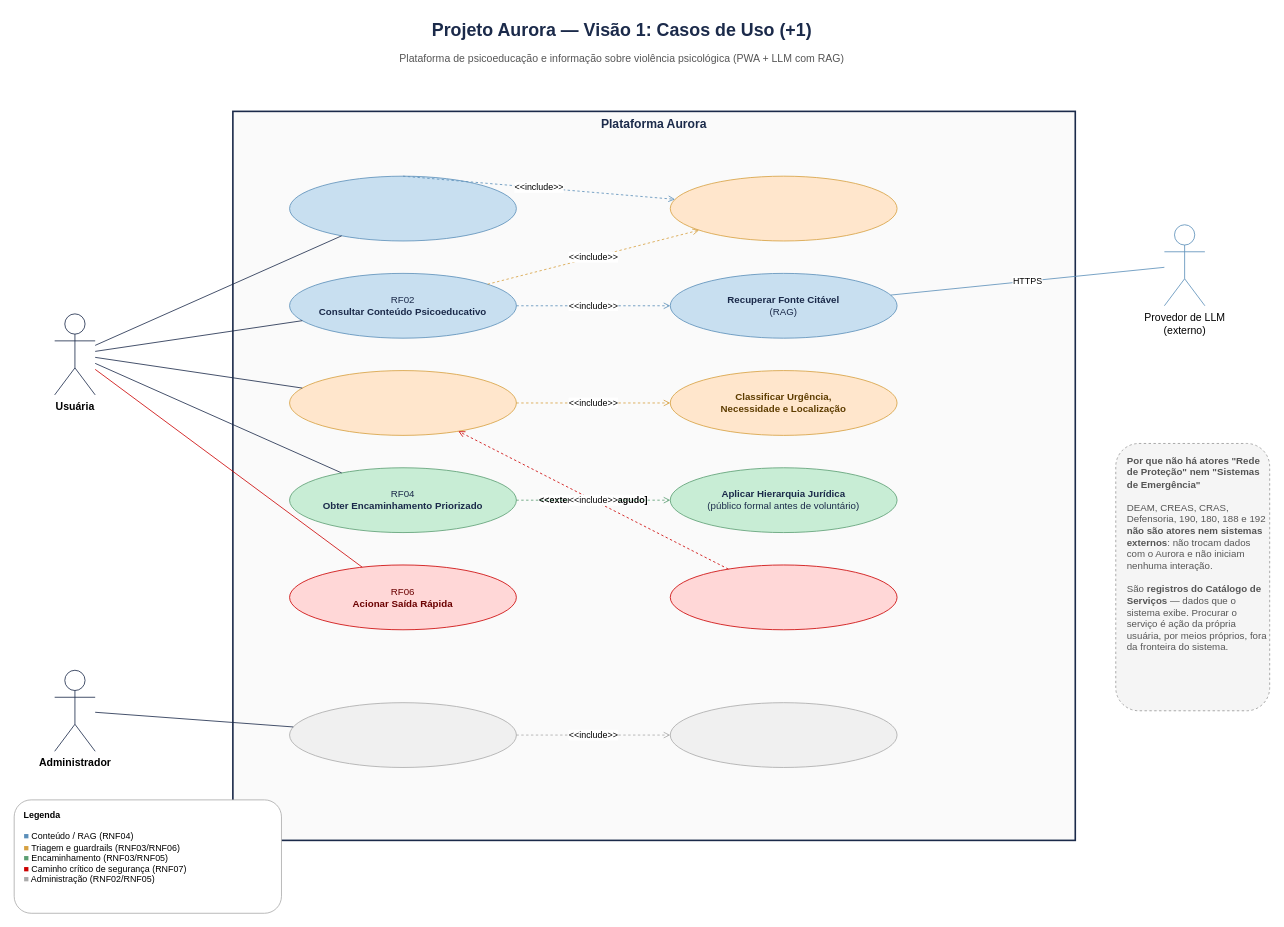
The diagram is 1284 pixels wide and 927 high, and some of its shapes have lost their labels. The centre of each missing label's shape, as x and y in pixels:
"Aplicar Guardrails de Escopo (RF10)" belongs at point 783,208.
"Exibir Sugestão Prioritária de Emergência (p95 ≤ 500 ms, sem LLM)" belongs at point 783,597.
"RF01 Relatar Situação de Violência" belongs at point 402,208.
"RF03 Realizar Triagem de Risco" belongs at point 402,402.
"RF05 Atualizar Catálogo de Serviços" belongs at point 402,734.
"Versionar Base de Conhecimento (sem downtime)" belongs at point 783,734.
